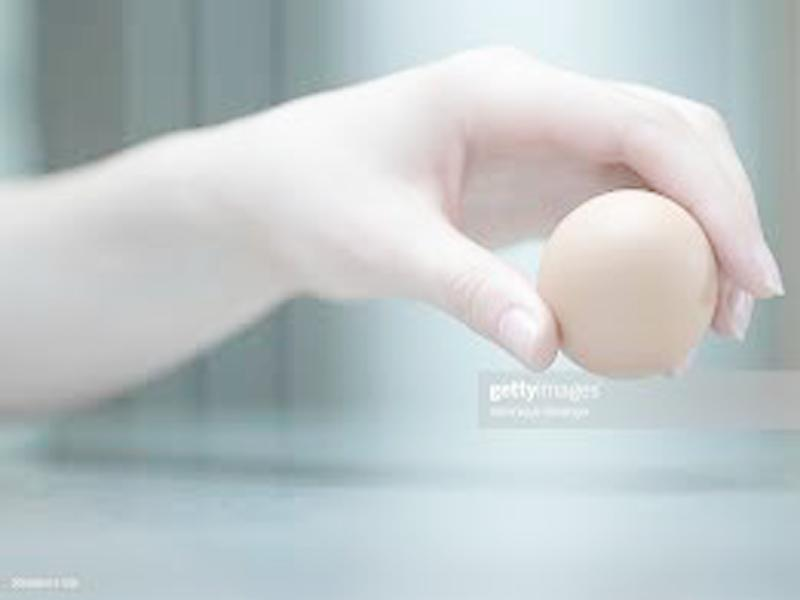Eggs: (533, 187, 717, 382)
